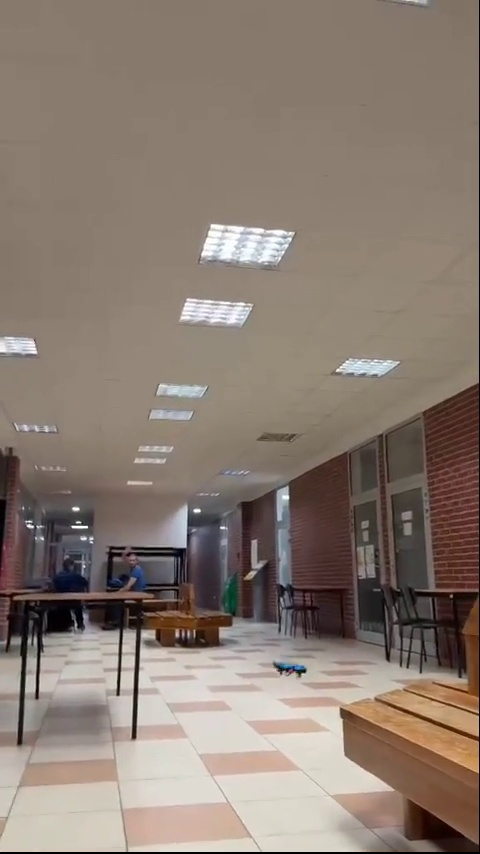drone: (274, 663, 307, 678)
no vest: (110, 549, 150, 597), (50, 555, 87, 594)
